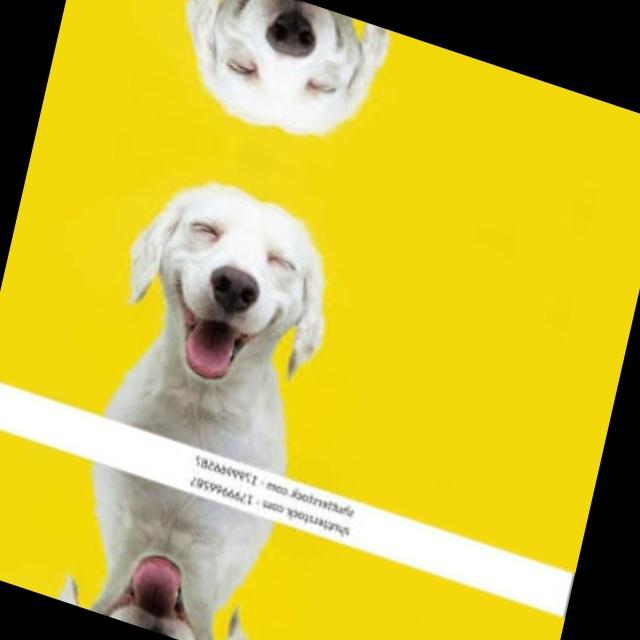dog: (96, 142, 362, 428), (154, 0, 404, 176), (42, 508, 280, 640)
